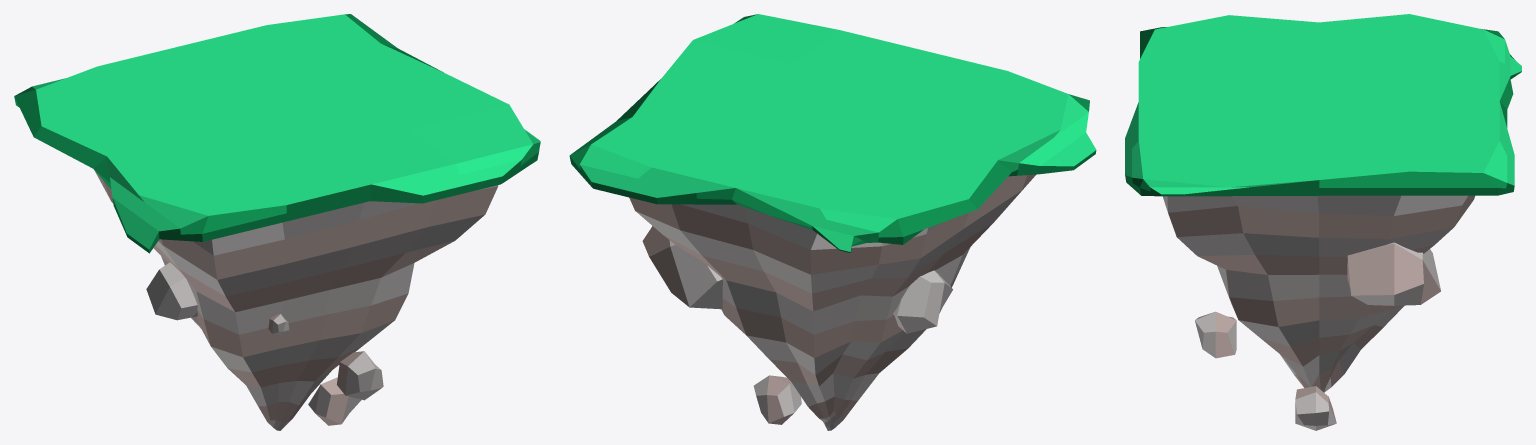
File: Floating Islands Medium.fbx
3 renders of one model, left to right at view 1: azimuth 30°, elevation 25°; view 2: azimuth 150°, elevation 25°; view 3: azimuth 270°, elevation 25°, orthographic. The views are drawn at different scales.
Parts seen in each view (by area): view 1: FloatingIslandMedium; view 2: FloatingIslandMedium; view 3: FloatingIslandMedium.
Part boxes in pixels (x1=…): FloatingIslandMedium: x1=14, y1=14, x2=540, y2=430; FloatingIslandMedium: x1=569, y1=14, x2=1096, y2=430; FloatingIslandMedium: x1=1125, y1=14, x2=1521, y2=430.
Size of the model in its own units: 1155 by 925 by 1086.
